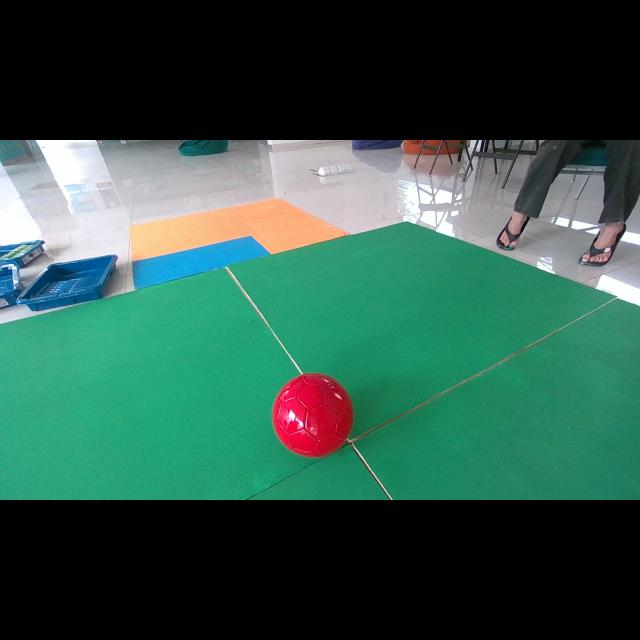R: (272, 372, 354, 458)
